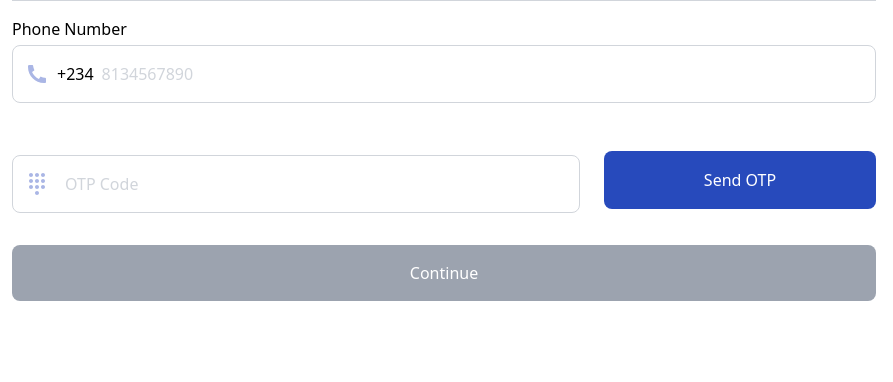
Scenario: StepOneSme Tests › should show the correct error message when otp field has invalid value
The image size is (893, 382).
Type "123" into the field with placeholder "OTP Code". click: (312, 184)
box: left=57, top=164, right=567, bottom=204
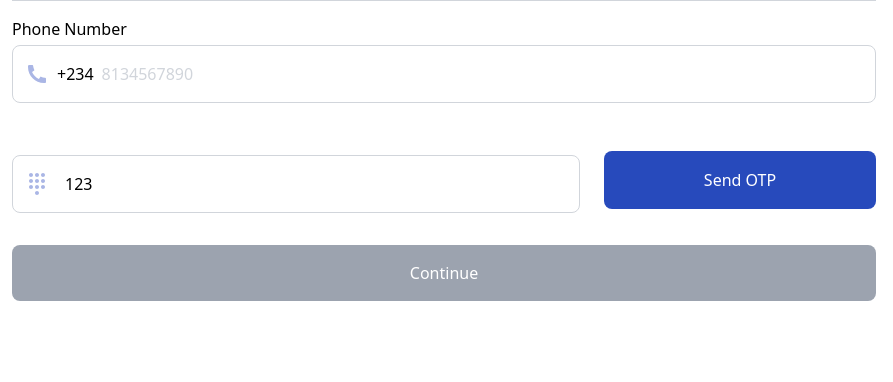
Click the button "Send OTP". click: (740, 180)
box: left=604, top=151, right=876, bottom=209
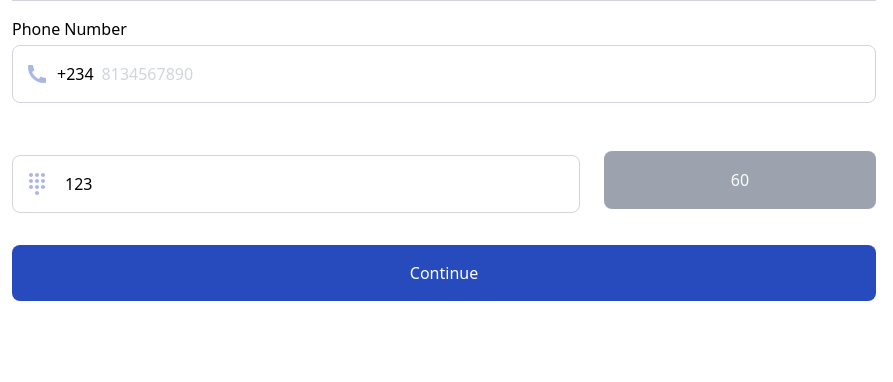
Click the button "Continue". click: (444, 273)
box: left=12, top=245, right=876, bottom=301
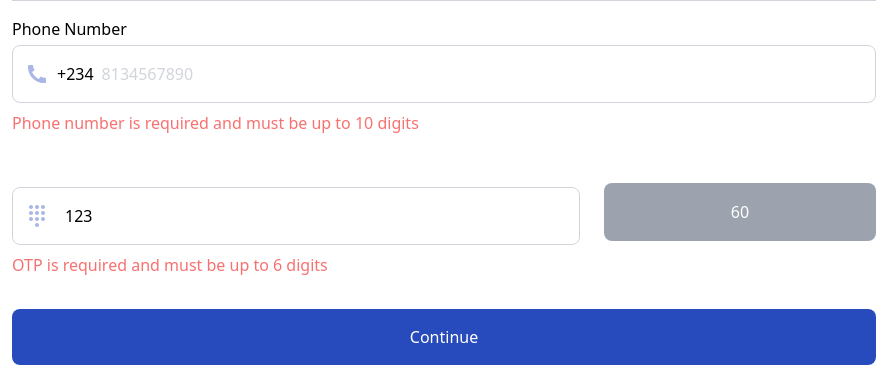
Expected: the text with test id "error" reads "OTP is required and must be up to 6 digits", left=12, top=254, right=328, bottom=276
